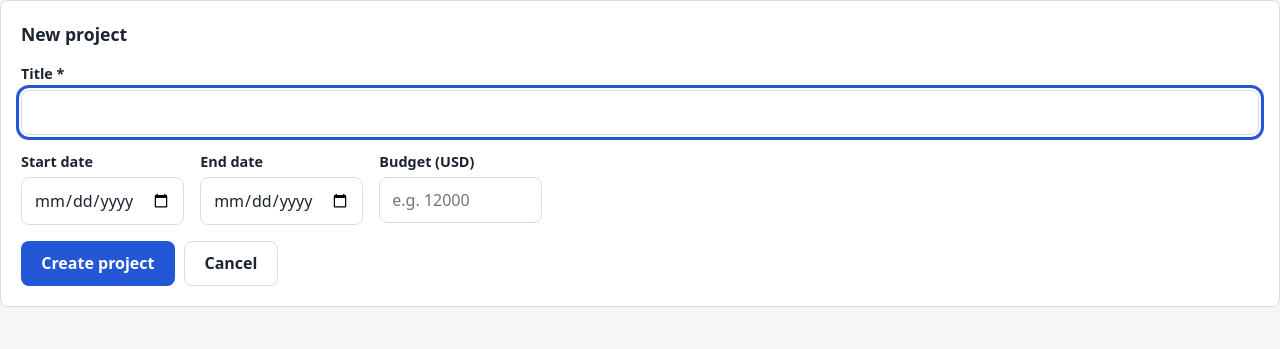
Test: ProjectForm › shows server field errors next to the field
Type "Dup" into the field labelled "Title *" at coordinates (640, 112), box [21,90,1259,135]
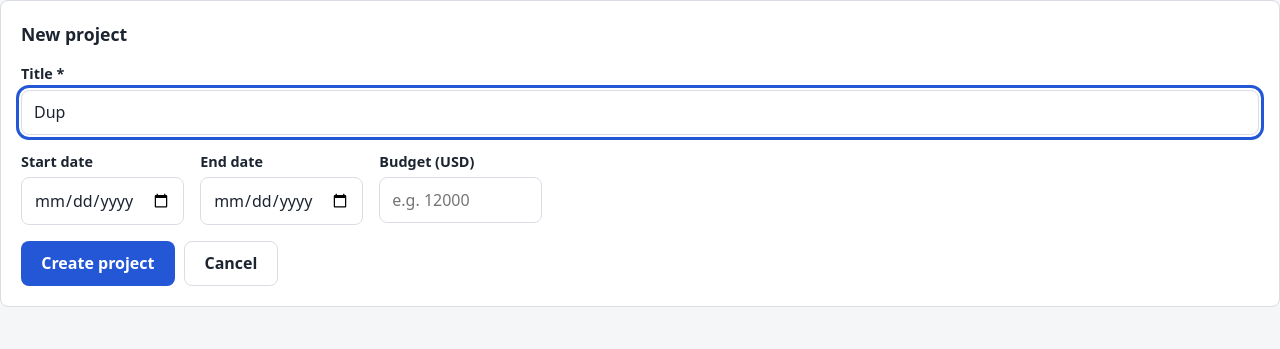
Click the button "Create project" at coordinates (98, 263), box [21,241,175,286]
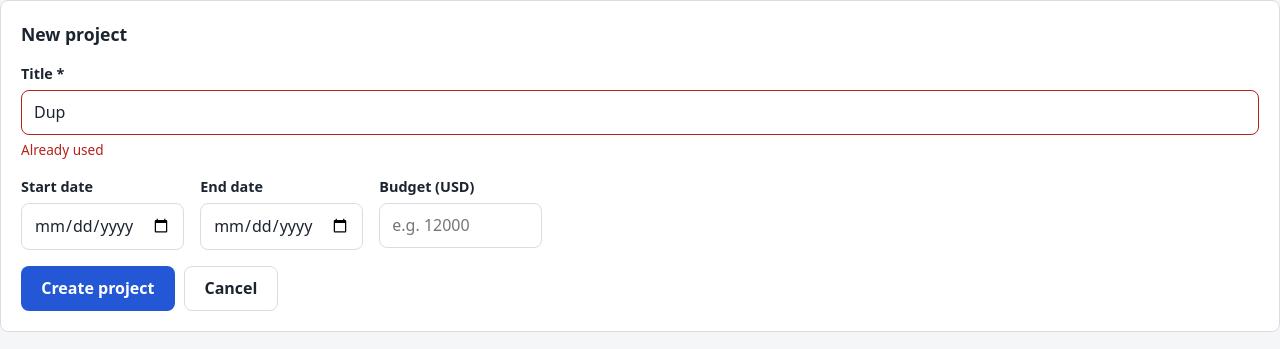
Expected: the button "Create project" is enabled, [21,266,175,311]
Now the text "Already used" is shown, box [21,140,104,159]
